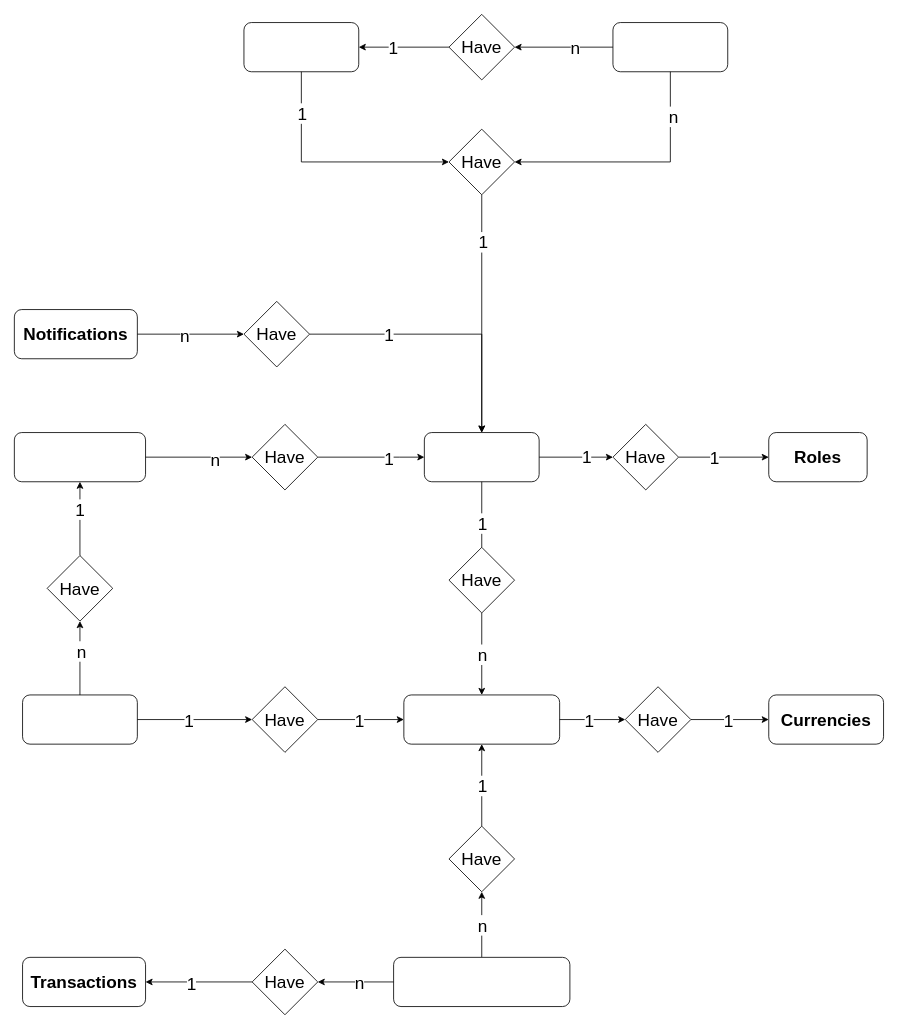
Image size: 898x1029. Some labels were removed from this diagram. Each missing label, with the centre of its shape:
"Accounts" goes at (481,457).
"BankAccounts" goes at (481,719).
"Channels" goes at (301,47).
"ChequeBooks" goes at (80,457).
"Cheques" goes at (79,719).
"Messages" goes at (670,47).
"TransactionDetails" goes at (481,982).
